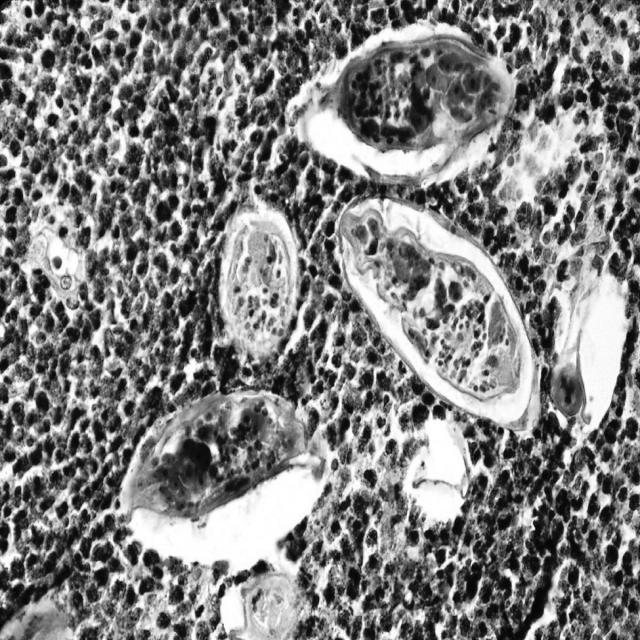Schistosoma: (321, 181, 540, 440), (270, 11, 526, 207), (109, 358, 340, 560)
